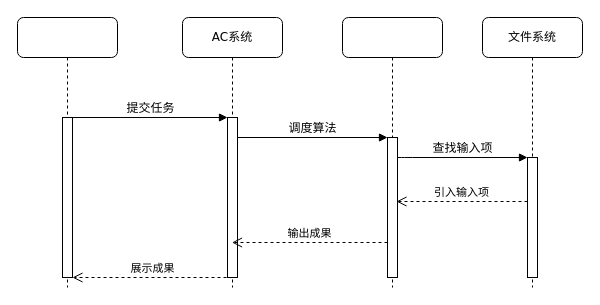
Some shapes in this 600 by 305 pixel diagram are drawn without their labels. The centre of each missing label's shape, as x and y in pixels:
用户: point 67,152
算法框架: point 392,152
